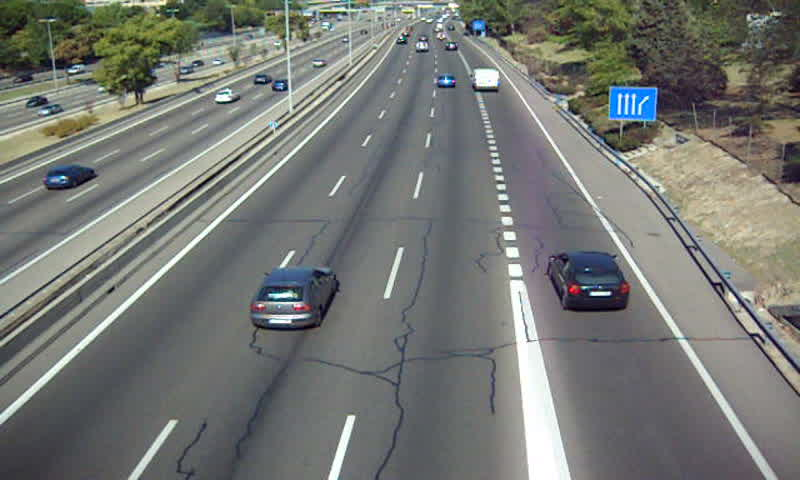car: (251, 270, 334, 330), (548, 253, 630, 311), (435, 75, 455, 90)
van: (471, 68, 500, 91)
